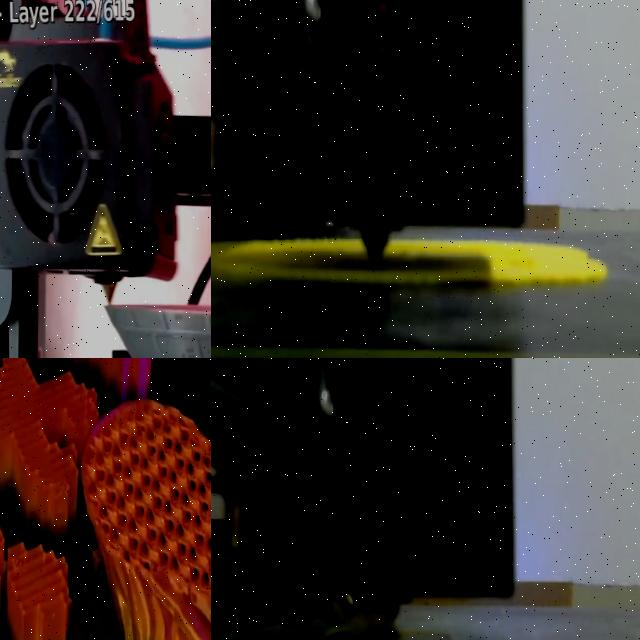spaghetti: (317, 592, 400, 640)
